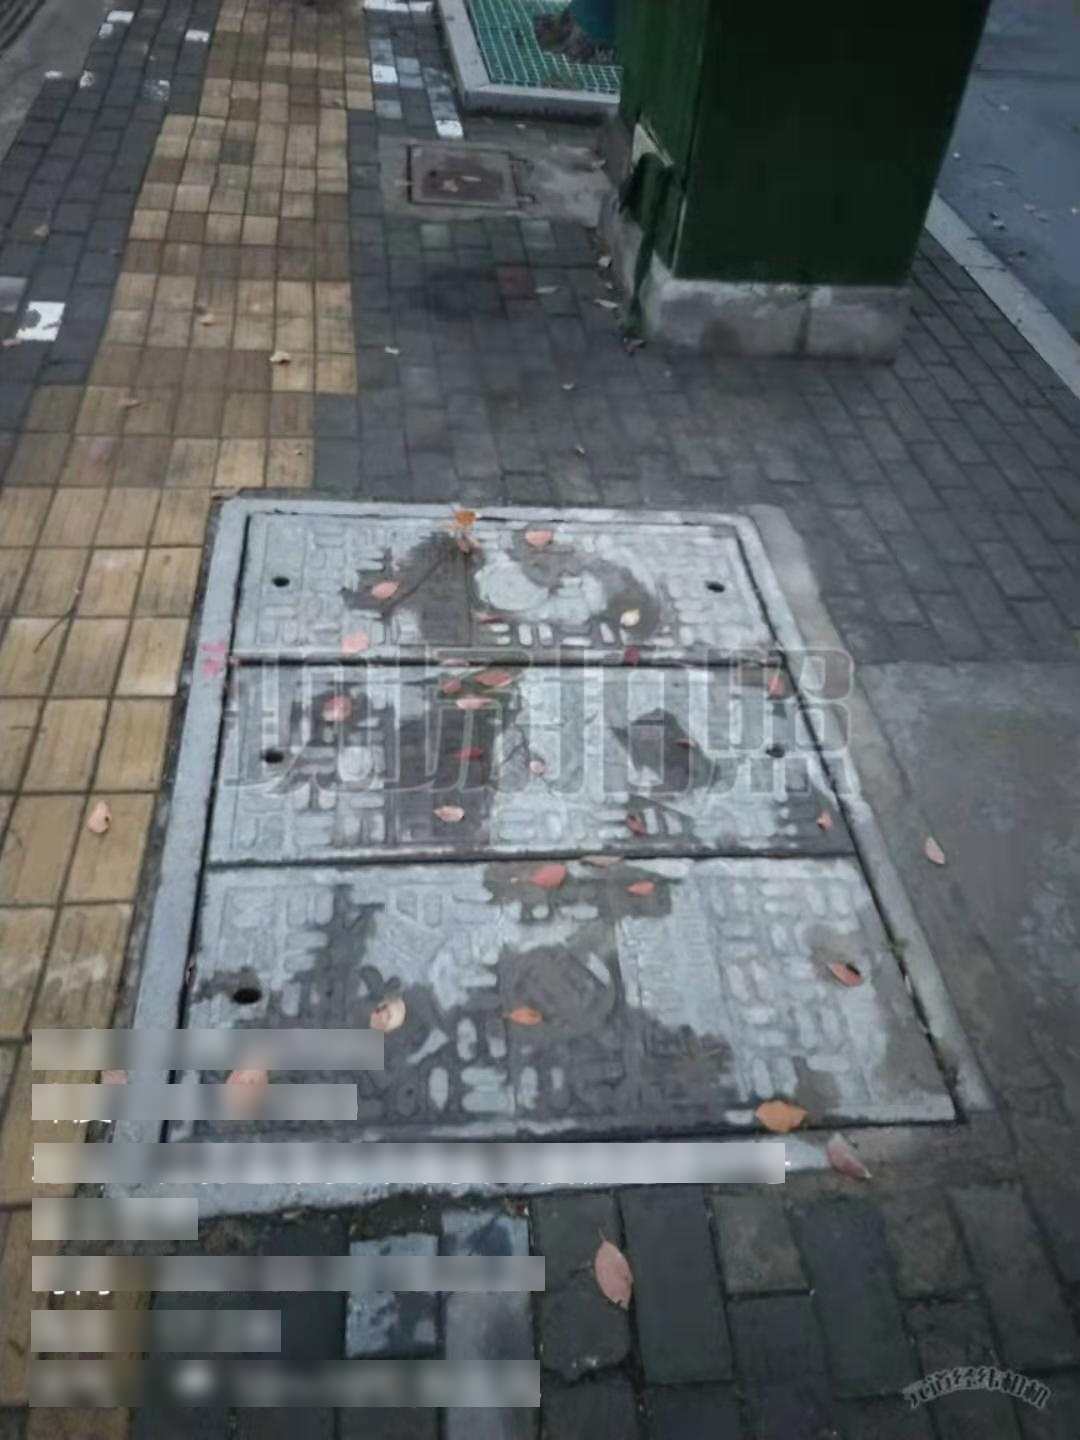good: (102, 492, 990, 1208)
